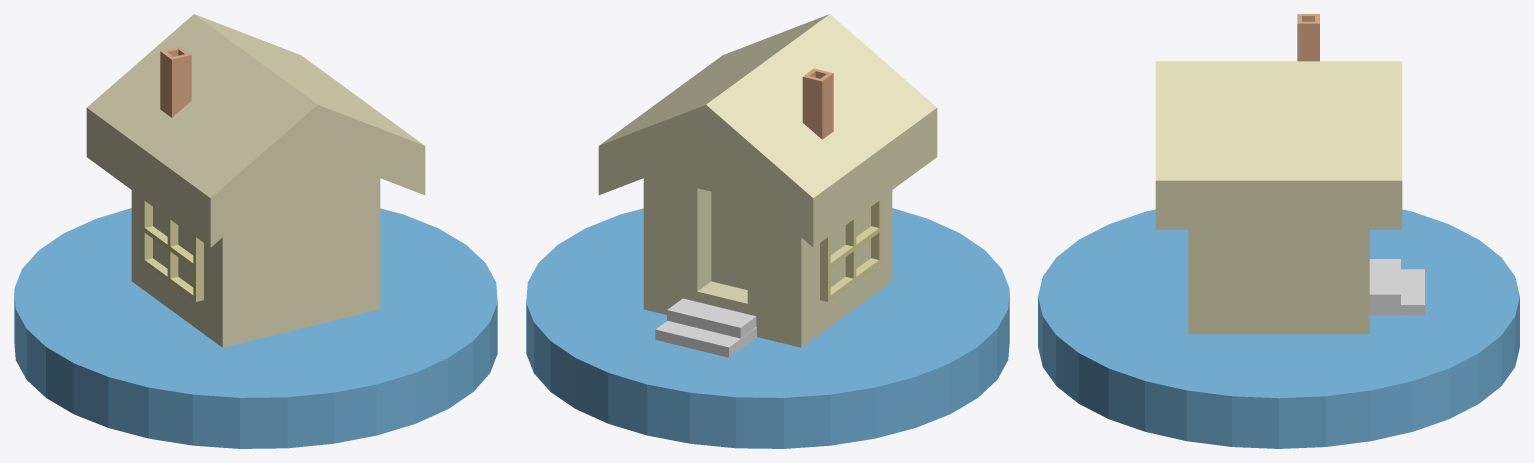
Rendered from house.glb.
The picture shows the model from 3 angles, left to right: view 1: azimuth 30°, elevation 25°; view 2: azimuth 150°, elevation 25°; view 3: azimuth 270°, elevation 25°; orthographic projection.
Visible parts, largest first — view 1: 円柱, 立方体, 立方体.001, 立方体.002; view 2: 円柱, 立方体, 立方体.005, 立方体.001, 立方体.003, 立方体.004, 立方体.002; view 3: 円柱, 立方体, 立方体.003, 立方体.004, 立方体.002.
Part boxes in pixels (x1,y1,x2,y2): 円柱: (14, 208, 497, 448); 立方体: (86, 14, 425, 347); 立方体.001: (142, 198, 203, 301); 立方体.002: (160, 46, 191, 117); 円柱: (526, 208, 1009, 448); 立方体: (598, 14, 937, 347); 立方体.005: (711, 191, 747, 289); 立方体.001: (820, 198, 881, 301); 立方体.003: (667, 298, 756, 338); 立方体.004: (655, 320, 756, 357); 立方体.002: (802, 68, 833, 139); 円柱: (1038, 209, 1519, 448); 立方体: (1155, 61, 1402, 334); 立方体.003: (1369, 259, 1400, 315); 立方体.004: (1401, 269, 1424, 315); 立方体.002: (1297, 14, 1319, 61).
Size of the model in its own units: 1.47 by 0.9963 by 1.47.
